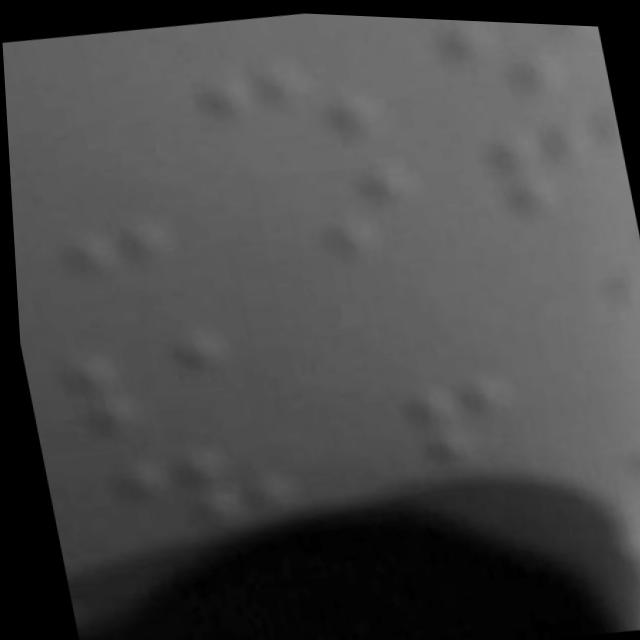braiile: (226, 151, 436, 276), (194, 44, 398, 168), (423, 15, 613, 118), (478, 104, 632, 219), (507, 208, 640, 327), (160, 6, 338, 56)
